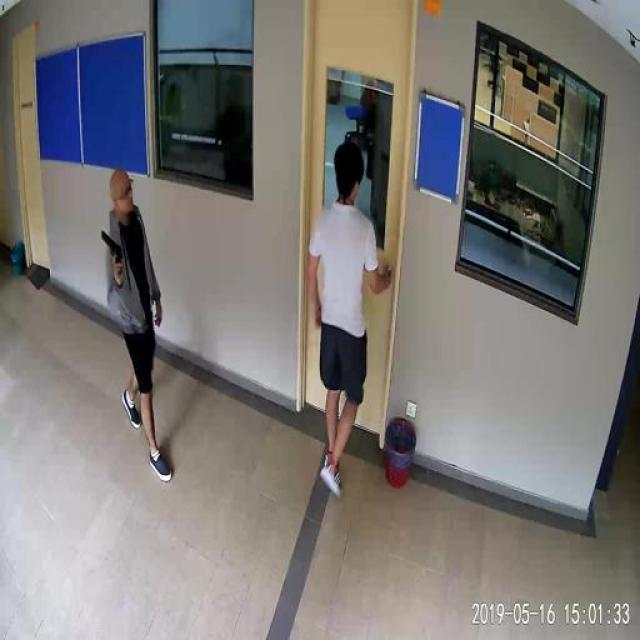Gun: (94, 226, 132, 276)
